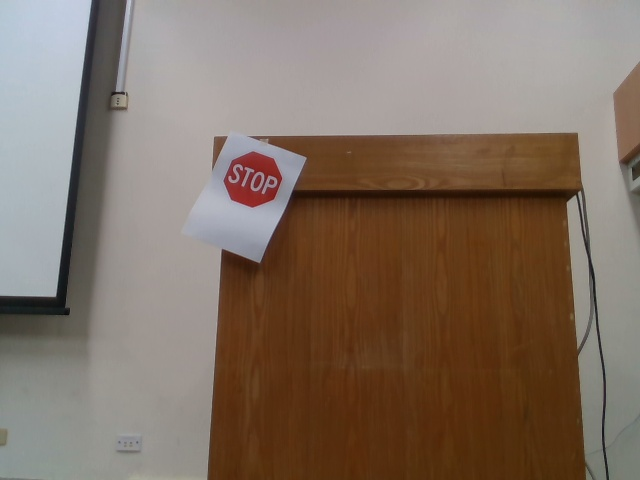stop: (221, 148, 286, 212)
